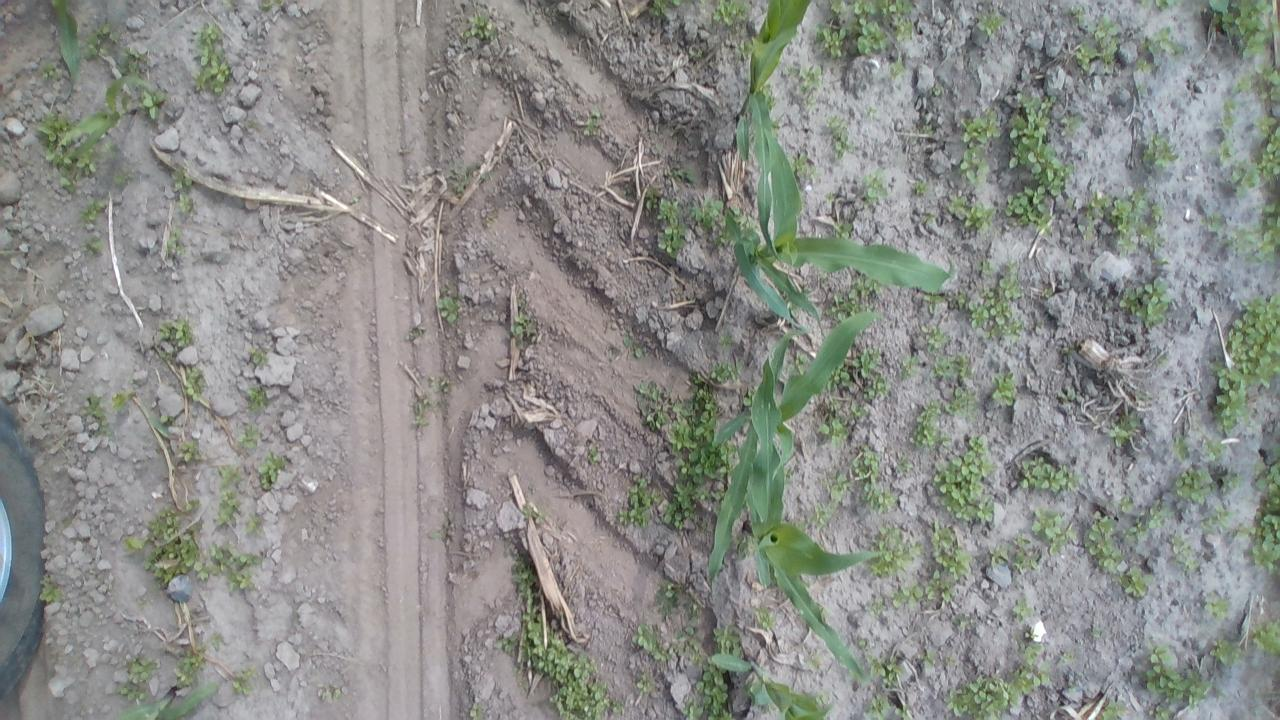Maize: (733, 125, 957, 342), (706, 313, 879, 577), (752, 346, 879, 690), (739, 0, 818, 236), (58, 71, 162, 160), (108, 391, 186, 508), (710, 649, 836, 718), (153, 342, 214, 431), (51, 0, 87, 100), (129, 682, 222, 719)
Weeds: (510, 557, 618, 718), (632, 372, 731, 480), (1214, 294, 1280, 432), (1006, 93, 1072, 229), (1079, 185, 1165, 255), (932, 434, 996, 524), (944, 664, 1048, 719), (148, 505, 206, 586), (1208, 0, 1276, 59), (1141, 644, 1209, 702), (1252, 437, 1280, 568), (1116, 492, 1174, 548), (40, 147, 100, 198), (965, 288, 1023, 338), (1233, 200, 1280, 260), (814, 397, 866, 448), (1117, 276, 1172, 324), (870, 524, 919, 576), (193, 22, 229, 92), (1170, 419, 1226, 464), (210, 544, 264, 590), (1018, 455, 1082, 493), (808, 472, 848, 528), (689, 666, 731, 718), (1085, 510, 1122, 568), (932, 524, 972, 576), (660, 481, 703, 528), (651, 575, 700, 614), (820, 292, 876, 324), (1105, 406, 1144, 451), (825, 0, 914, 19), (621, 476, 654, 527), (958, 107, 1001, 146), (1168, 528, 1206, 572), (453, 11, 503, 44), (447, 167, 493, 201), (1138, 26, 1184, 60), (1174, 466, 1214, 505), (1032, 507, 1070, 548), (913, 395, 944, 445), (124, 653, 160, 695), (852, 444, 888, 484), (928, 354, 978, 382), (1142, 132, 1179, 169), (712, 620, 746, 660), (861, 693, 910, 720), (510, 306, 544, 344), (173, 648, 205, 688), (1095, 13, 1120, 63), (958, 146, 989, 186), (855, 18, 887, 56), (632, 620, 667, 654), (572, 102, 602, 141), (968, 12, 1007, 42), (1252, 622, 1280, 663), (869, 655, 906, 686), (862, 483, 898, 514), (998, 260, 1027, 298), (825, 112, 851, 154), (426, 514, 458, 548), (1214, 634, 1242, 672), (257, 452, 286, 488), (946, 386, 980, 416), (882, 54, 912, 88), (180, 362, 203, 405), (658, 222, 684, 260), (1231, 162, 1258, 198), (1121, 566, 1152, 597), (38, 112, 68, 144), (1200, 500, 1232, 530), (142, 88, 170, 122), (215, 492, 241, 528), (989, 374, 1017, 406), (1012, 544, 1044, 572), (691, 199, 724, 226), (822, 25, 849, 58), (712, 0, 746, 26), (158, 318, 192, 344), (660, 162, 700, 184), (520, 501, 548, 532), (313, 676, 344, 704), (890, 583, 924, 608), (680, 626, 705, 660), (926, 572, 954, 602), (713, 322, 740, 353), (1012, 591, 1038, 623), (1258, 136, 1276, 182), (1211, 136, 1238, 166), (1247, 111, 1280, 135), (896, 352, 924, 380), (965, 204, 994, 231), (860, 375, 890, 401), (1205, 592, 1232, 620), (1218, 469, 1244, 498), (39, 576, 64, 606), (164, 227, 188, 258), (82, 394, 105, 426), (826, 364, 852, 392), (409, 390, 428, 428), (1072, 42, 1096, 72), (1058, 110, 1082, 140), (586, 436, 607, 470), (167, 164, 190, 195), (1229, 69, 1254, 97), (709, 363, 740, 385), (786, 350, 812, 376), (854, 350, 879, 377), (438, 296, 462, 324), (866, 169, 889, 198), (922, 326, 948, 351), (1060, 2, 1086, 27), (232, 667, 256, 694), (852, 274, 881, 296), (120, 47, 144, 73), (916, 642, 940, 668), (890, 18, 916, 42), (1228, 520, 1254, 544), (112, 168, 140, 190), (402, 325, 431, 346), (242, 512, 266, 537), (236, 424, 262, 447), (1100, 698, 1128, 719), (81, 200, 106, 223), (974, 253, 996, 279), (802, 67, 825, 91), (41, 60, 64, 84), (1053, 385, 1078, 407), (1136, 0, 1186, 11), (1144, 704, 1178, 720), (649, 0, 681, 17), (862, 593, 882, 620), (1018, 642, 1042, 664), (1253, 64, 1277, 86), (632, 672, 656, 694), (1221, 99, 1238, 130), (248, 384, 269, 409), (794, 152, 814, 178), (218, 466, 244, 486), (439, 374, 454, 408), (732, 206, 755, 228), (494, 634, 518, 654), (1204, 210, 1224, 234), (738, 384, 758, 408), (178, 192, 196, 218), (458, 702, 484, 720), (640, 185, 656, 214), (855, 633, 877, 654), (907, 177, 929, 198), (1055, 643, 1072, 670), (946, 194, 966, 216), (248, 345, 270, 365), (923, 292, 945, 312), (83, 34, 100, 59), (624, 336, 644, 357), (987, 545, 1008, 565), (659, 199, 678, 221), (256, 0, 288, 13), (176, 442, 197, 461), (85, 236, 104, 257), (122, 532, 140, 554), (764, 83, 778, 111), (210, 628, 224, 656), (1134, 56, 1158, 72), (104, 140, 122, 161), (98, 20, 119, 38), (756, 610, 774, 630), (930, 83, 949, 101), (950, 611, 970, 628), (912, 125, 934, 140), (780, 61, 799, 78), (1130, 77, 1150, 92), (951, 290, 967, 308), (836, 222, 853, 238), (1088, 623, 1102, 641), (1039, 283, 1055, 298), (820, 191, 839, 203), (866, 103, 880, 118), (804, 96, 816, 113), (220, 0, 236, 11)
